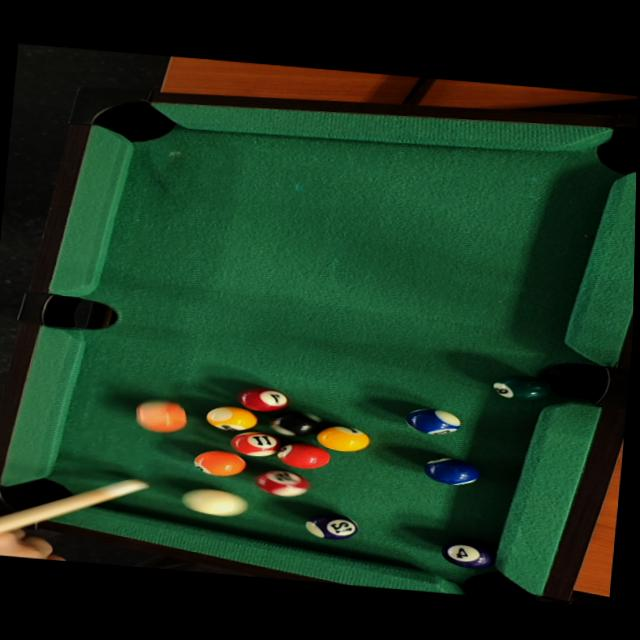cue ball: (178, 482, 254, 516)
other: (127, 395, 193, 437), (485, 370, 557, 408), (421, 454, 490, 492), (261, 406, 330, 442), (397, 405, 466, 439), (436, 537, 505, 571), (197, 401, 263, 435), (312, 419, 378, 452), (251, 466, 312, 501), (233, 384, 299, 415), (275, 439, 337, 472), (225, 425, 284, 458), (302, 509, 360, 542), (191, 446, 252, 477)
